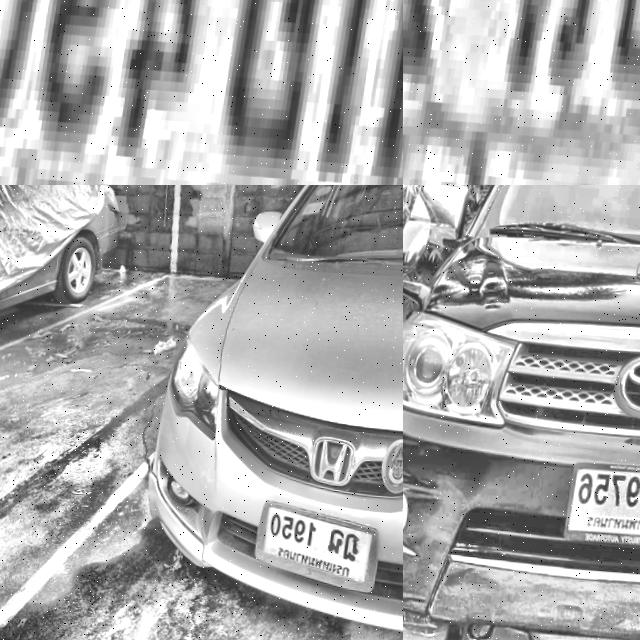license-plate: (0, 0, 403, 185), (403, 0, 640, 185), (255, 496, 398, 596), (569, 457, 640, 552)
